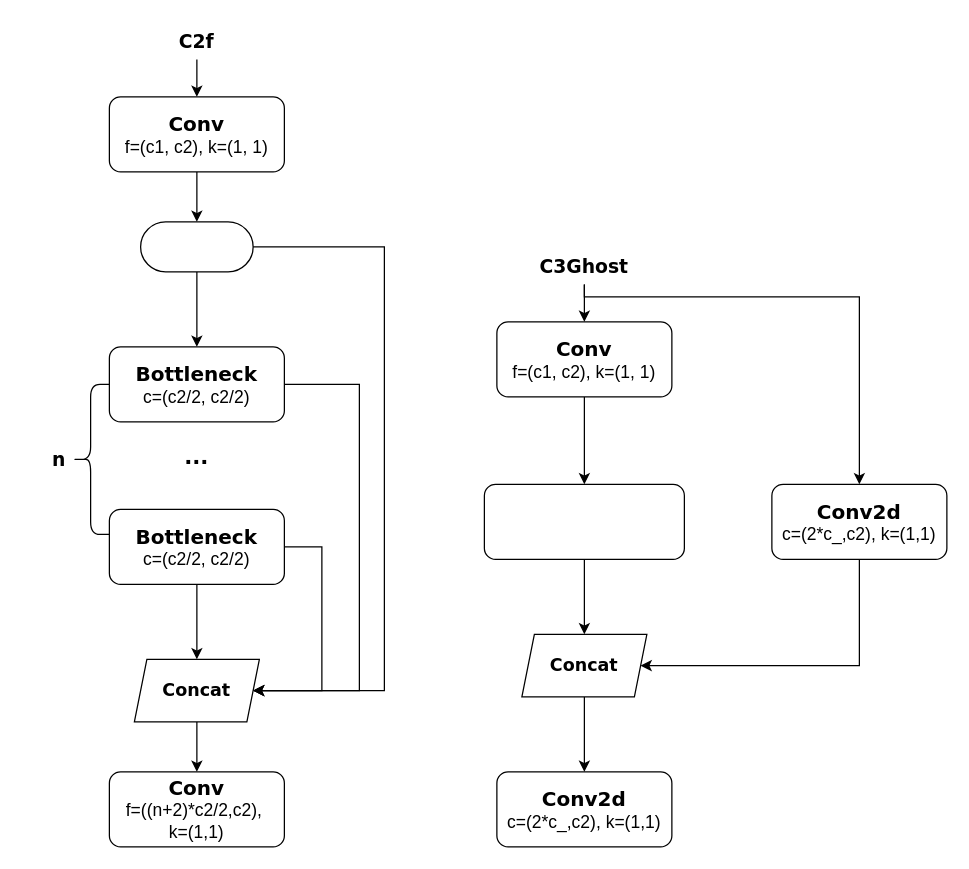
Image size: 969x869. Some labels were removed from this diagram. Here are the shapes that lost their labels. From the top down, the centre of each, then its label:
At (x=196, y=246): "split".
At (x=583, y=521): "GhostBottleneck".
